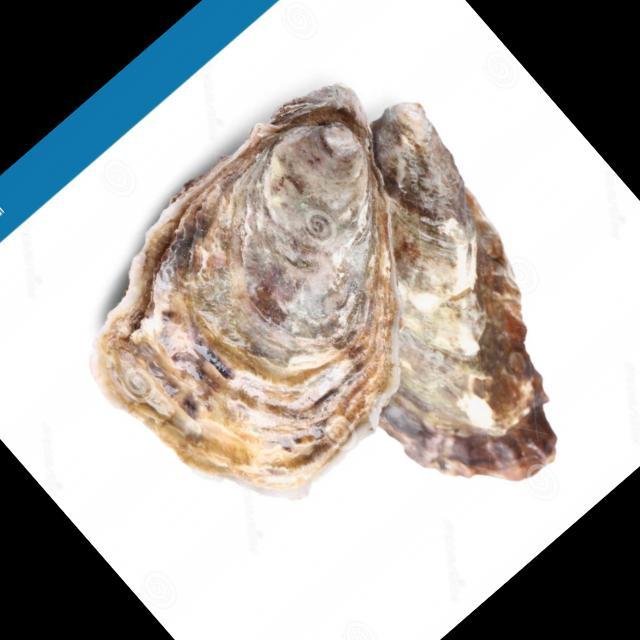Oyster- Indeterminate: (96, 85, 399, 492), (371, 104, 556, 479)
